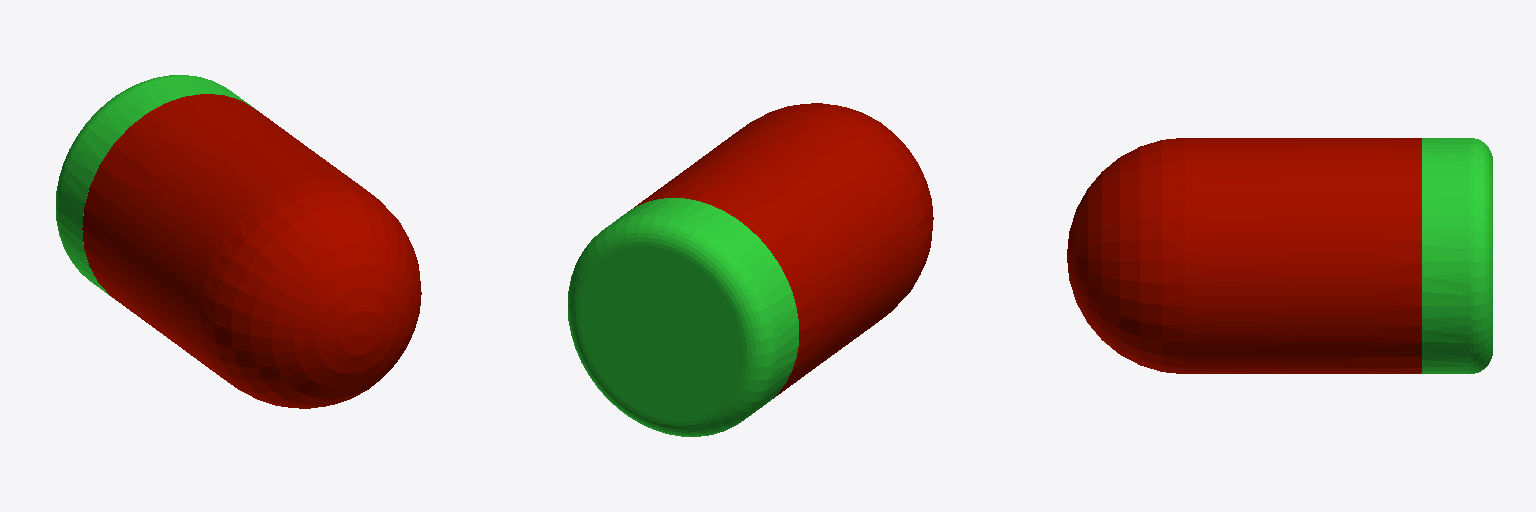
Rendered from led1.obj.
The picture shows the model from 3 angles: view 1: azimuth 30°, elevation 25°; view 2: azimuth 150°, elevation 25°; view 3: azimuth 270°, elevation 25°; orthographic projection.
Size of the model in its own units: 10 by 10 by 18.